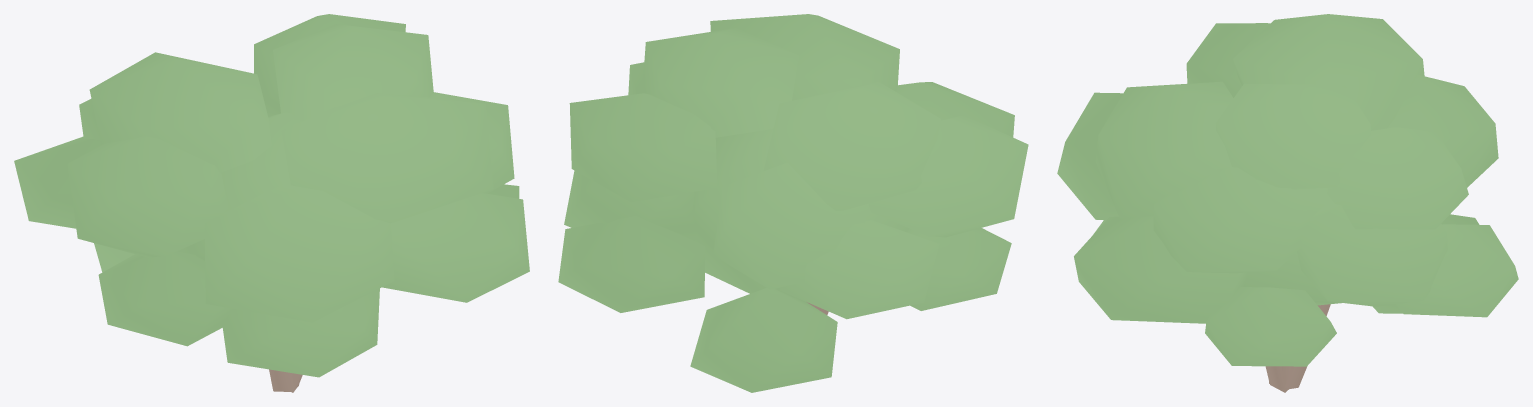
File: Blender_Shrub_3_Far.glb
3 renders of one model, left to right at view 1: azimuth 30°, elevation 25°; view 2: azimuth 150°, elevation 25°; view 3: azimuth 270°, elevation 25°, orthographic. The views are drawn at different scales.
Visible parts, largest first — view 1: Blender_Shrub_3_Far; view 2: Blender_Shrub_3_Far; view 3: Blender_Shrub_3_Far.
Part boxes in pixels (<box>): Blender_Shrub_3_Far: <box>14,14,529,392</box>; Blender_Shrub_3_Far: <box>558,14,1028,392</box>; Blender_Shrub_3_Far: <box>1057,14,1518,392</box>.
Bounding box in the file's own units: 2.69 × 1.98 × 2.45.
